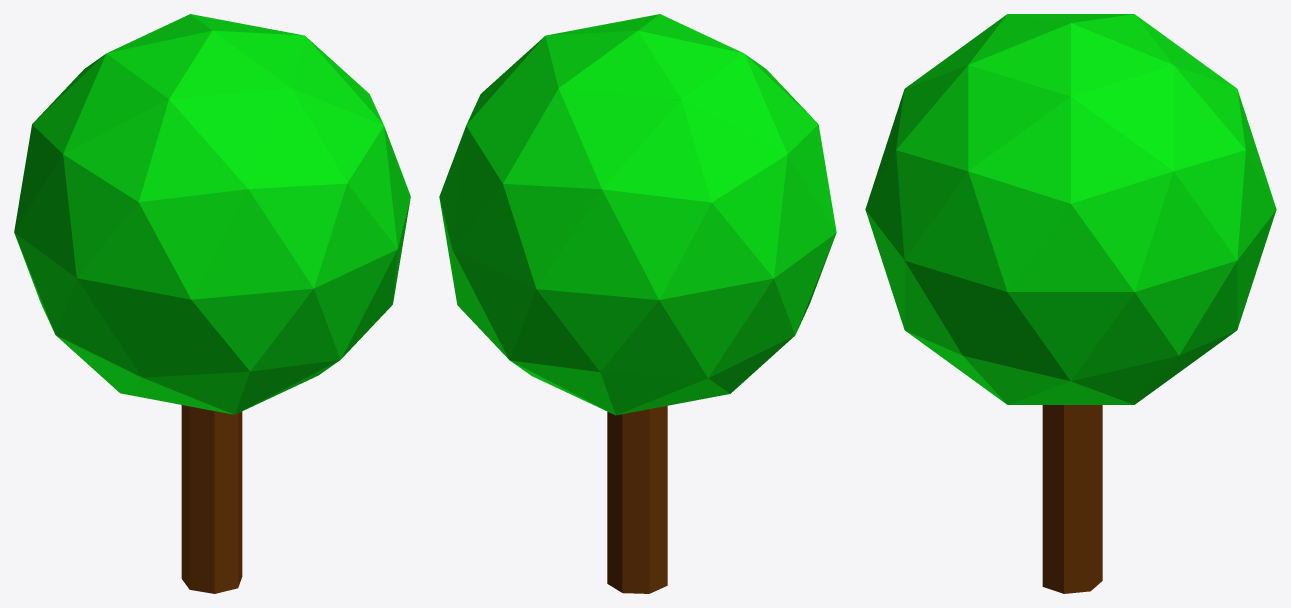
The model's file is Tree.fbx.
3 views of the same model, side by side, from view 1: azimuth 30°, elevation 25°; view 2: azimuth 150°, elevation 25°; view 3: azimuth 270°, elevation 25° (orthographic).
Parts seen in each view (by area): view 1: Cylinder; view 2: Cylinder; view 3: Cylinder.
Part boxes in pixels (x1,y1,x2,y2): Cylinder: (14, 14, 410, 593); Cylinder: (439, 14, 836, 593); Cylinder: (865, 14, 1276, 593).
Bounding box in the file's own units: 351 × 553 × 369.
